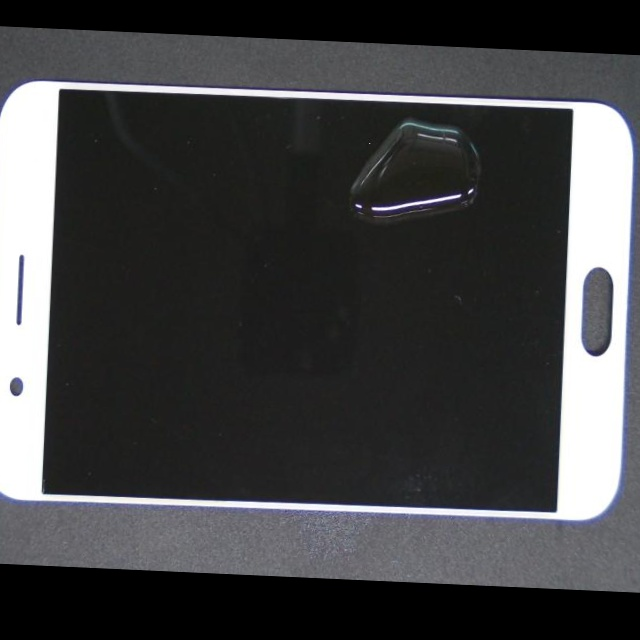oil: (155, 100, 548, 290)
